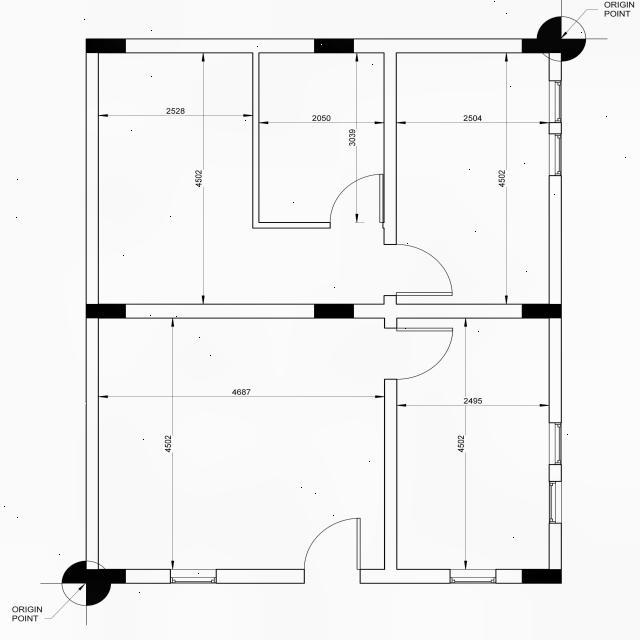Column: (313, 302, 357, 321), (85, 36, 127, 54), (522, 304, 564, 320), (85, 304, 126, 320), (314, 38, 354, 54), (522, 568, 562, 584), (86, 570, 126, 584), (521, 38, 560, 52)
Door: (302, 516, 360, 584), (384, 244, 456, 296), (384, 328, 454, 379), (329, 174, 384, 234)
Window: (450, 568, 498, 586), (170, 568, 218, 584), (547, 80, 563, 124), (548, 132, 563, 178), (548, 422, 562, 465), (549, 480, 561, 524)
